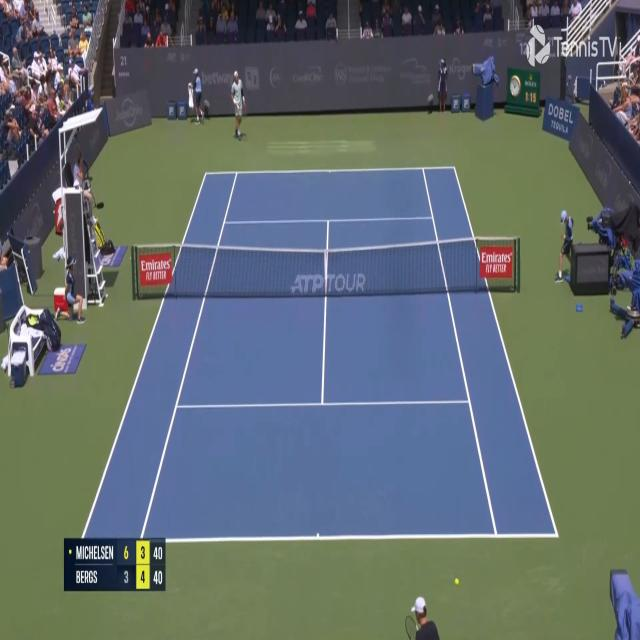tennis-player: (402, 591, 443, 640), (231, 69, 246, 140)
